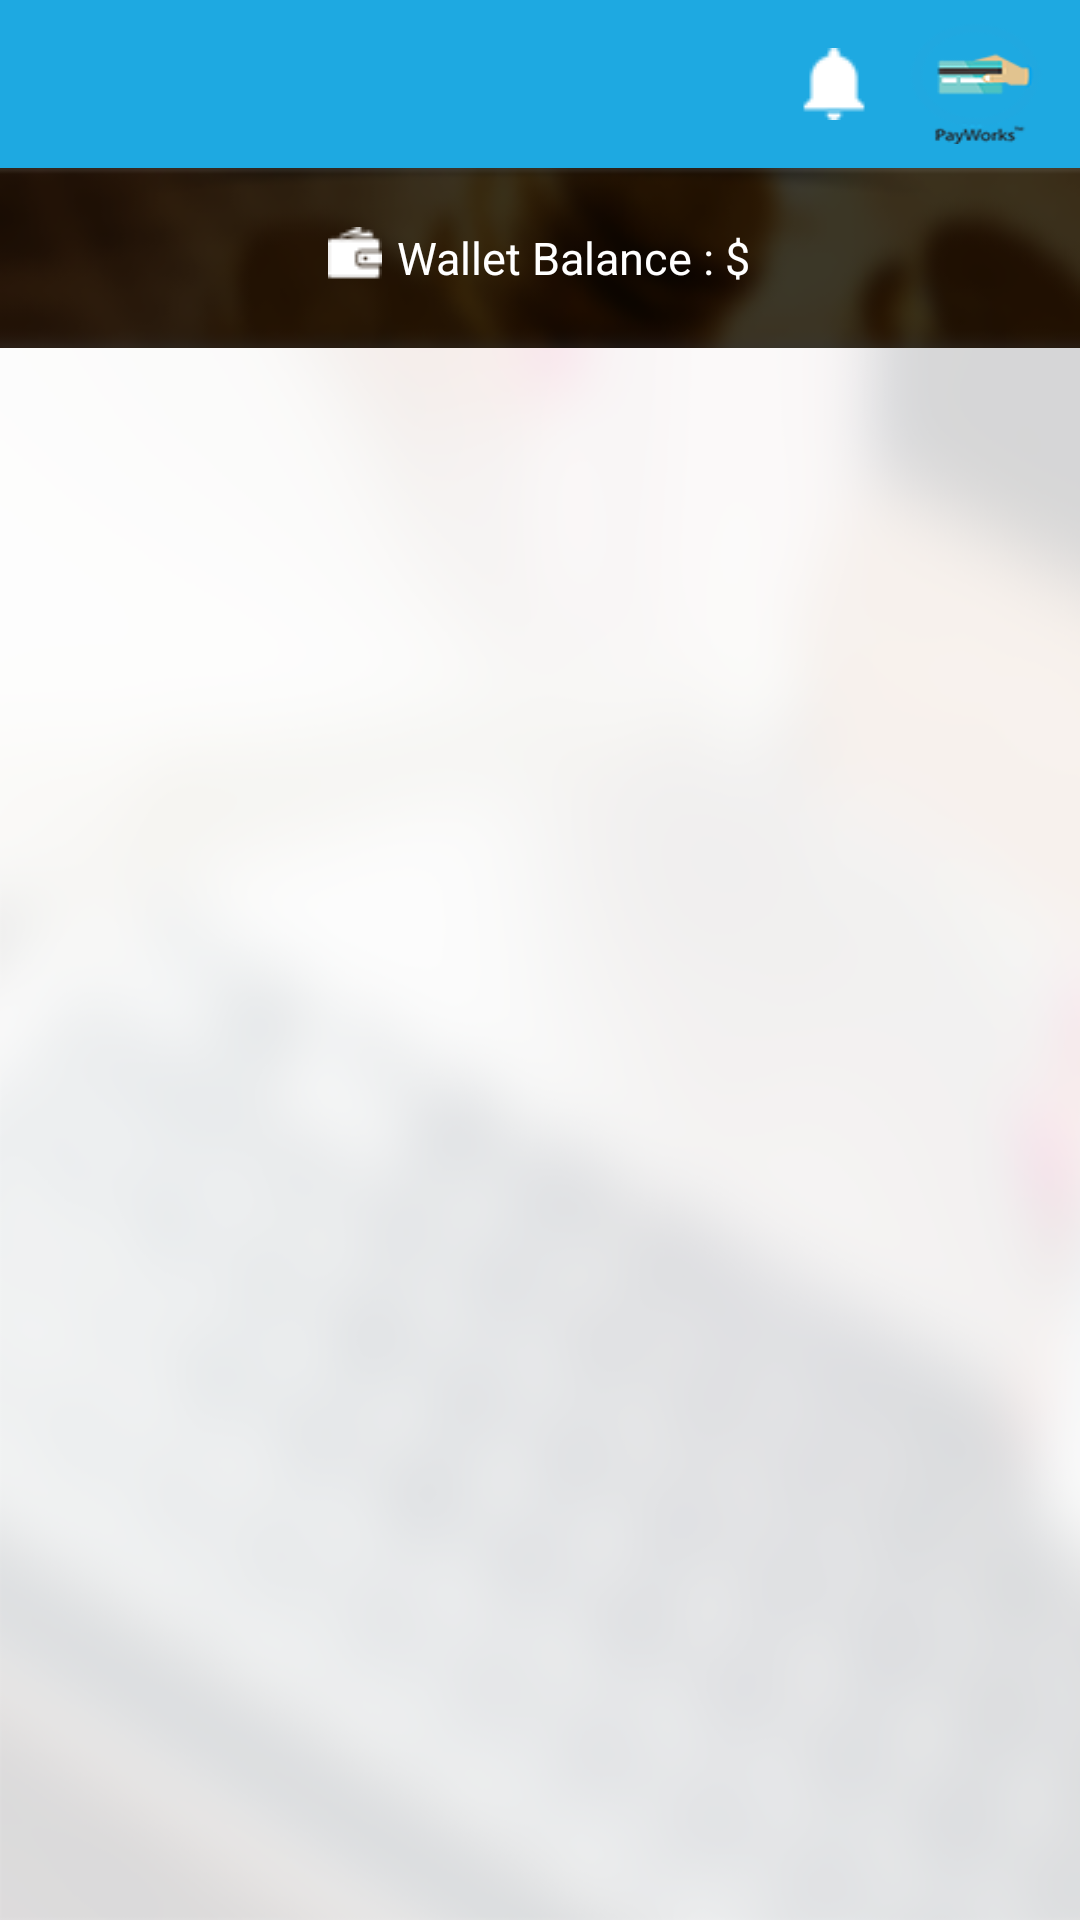

Locate icon controls on the screen. Image size 1080x1920, boxes as (x1, y1, x2, y2).
bell: (803, 48, 865, 120)
